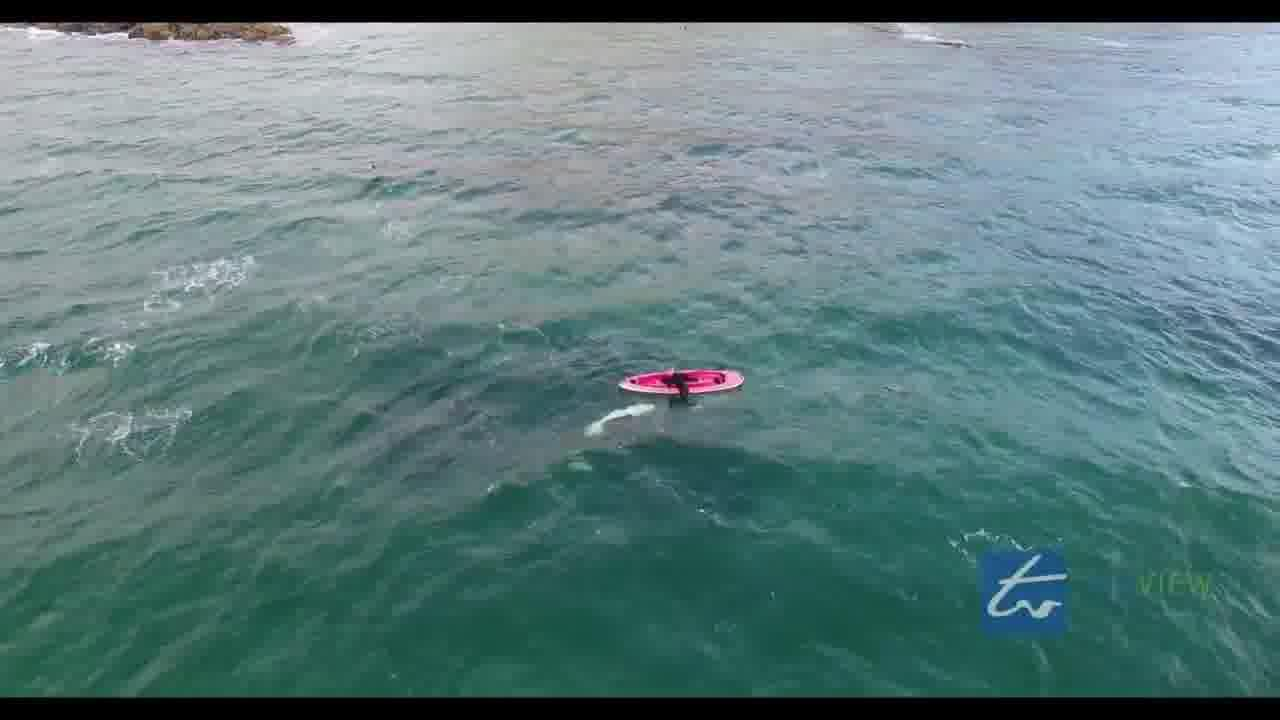swimmer: (658, 364, 692, 405)
